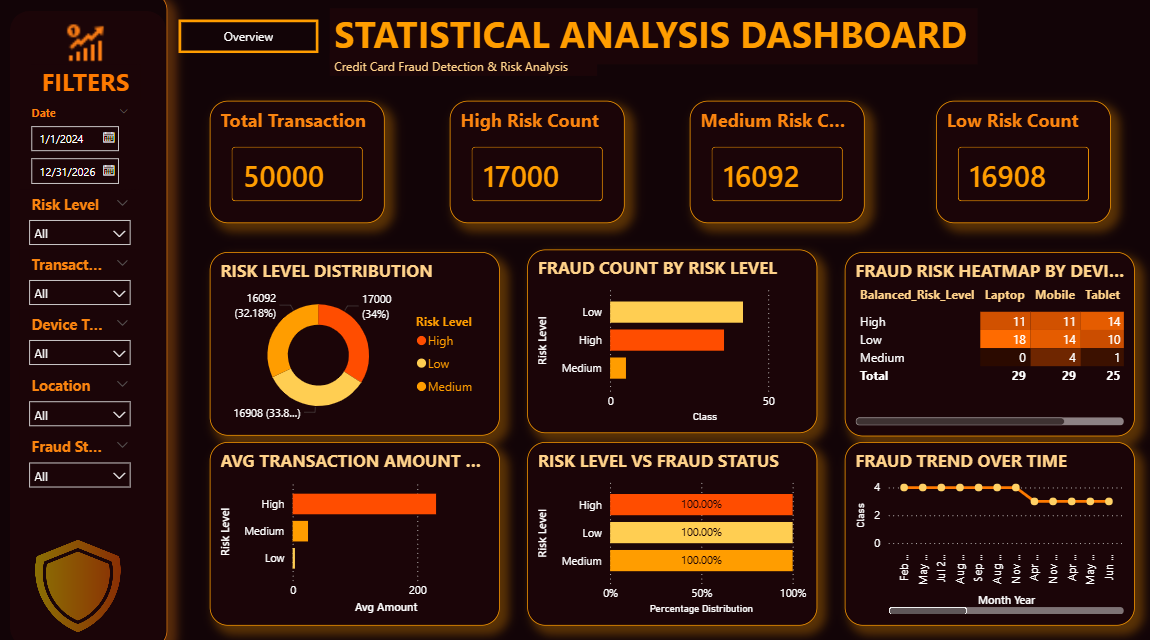

What the dashboard file says about the page in this screenshot:
{"tool":"powerbi","page":{"name":"Page 5","canvas":[1280,720],"ordinal":4},"visuals":[{"type":"shape","box":[0,0,193.5,720.4],"z":0},{"type":"textbox","title":"STATISTICAL ANALYSIS DASHBOARD","box":[371.9,17.8,710.8,61.7],"z":1000},{"type":"textbox","box":[371.9,67.2,293.7,24.7],"z":2000},{"type":"cardVisual","title":"Total Transaction","fields":{"Data":["enriched_data.Total Transactions"]},"box":[240.1,119.4,192.1,134.5],"z":3000},{"type":"cardVisual","title":"High Risk Count","fields":{"Data":["enriched_data.High_Risk_Count"]},"box":[503.6,119.4,192.1,134.5],"z":4000},{"type":"cardVisual","title":"Medium Risk Count","fields":{"Data":["enriched_data.Medium_Risk_Count"]},"box":[767.1,119.4,192.1,134.5],"z":5000},{"type":"cardVisual","title":"Low Risk Count","fields":{"Data":["enriched_data.Low_Risk_Count"]},"box":[1037.4,119.4,192.1,134.5],"z":6000},{"type":"slicer","fields":{"Values":["enriched_data.transaction_date"]},"box":[31.6,119.4,131.7,97.4],"z":7000},{"type":"slicer","fields":{"Values":["enriched_data.Balanced_Risk_Level"]},"box":[31.6,216.8,131.7,76.8],"z":8000},{"type":"slicer","fields":{"Values":["enriched_data.transaction_type"]},"box":[31.6,282.7,131.7,76.8],"z":9000},{"type":"slicer","fields":{"Values":["enriched_data.device_type"]},"box":[31.6,348.5,131.7,76.8],"z":10000},{"type":"slicer","fields":{"Values":["enriched_data.location"]},"box":[31.6,415.8,131.7,76.8],"z":11000},{"type":"slicer","fields":{"Values":["enriched_data.Fraud_Status"]},"box":[31.6,483,131.7,76.8],"z":12000},{"type":"donutChart","title":"RISK LEVEL DISTRIBUTION","fields":{"Category":["enriched_data.Balanced_Risk_Level"],"Y":["CountNonNull(enriched_data.transaction_id)"]},"box":[240.1,285.4,318.4,201.7],"z":13000},{"type":"clusteredBarChart","title":"FRAUD COUNT BY RISK LEVEL","fields":{"Category":["enriched_data.Balanced_Risk_Level"],"Y":["Sum(enriched_data.class)"]},"box":[588.5,282.5,318.3,201.2],"z":14000},{"type":"pivotTable","title":"FRAUD RISK HEATMAP BY DEVICE TYPE","fields":{"Columns":["enriched_data.device_type"],"Rows":["enriched_data.Balanced_Risk_Level"],"Values":["enriched_data.Total Fraud Transactions"]},"box":[937.1,285.3,318.3,202.6],"z":15000},{"type":"clusteredBarChart","title":"AVG TRANSACTION AMOUNT BY RISK LEVEL","fields":{"Y":["Avg(enriched_data.amount)"],"Category":["enriched_data.Balanced_Risk_Level"]},"box":[239.8,493.4,318.3,201.2],"z":16000},{"type":"hundredPercentStackedBarChart","title":"RISK LEVEL VS FRAUD STATUS","fields":{"Category":["enriched_data.Balanced_Risk_Level"],"Y":["CountNonNull(enriched_data.transaction_id)"]},"box":[588.5,493.4,318.3,201.2],"z":17000},{"type":"lineChart","title":"FRAUD TREND OVER TIME","fields":{"Category":["enriched_data.Month_Year"],"Y":["Sum(enriched_data.class)"]},"box":[937.1,493.4,318.3,201.2],"z":18000},{"type":"textbox","title":"FILTERS","box":[44.1,79.9,119.9,40],"z":19000},{"type":"image","box":[74.4,31.7,59.3,48.2],"z":20000},{"type":"image","box":[40,594,111.6,115.8],"z":21000},{"type":"actionButton","title":"Overview ","box":[205.8,30.2,153.7,37],"z":22000}]}

Visuals, with their boxes in screenshot pixels (x1, y1, x2, y2), scaled from the page's 1280x720 canvas onto the 1150x640 screenshot:
shape: bbox=[0, 0, 174, 639]
"STATISTICAL ANALYSIS DASHBOARD" textbox: bbox=[334, 16, 973, 71]
textbox: bbox=[334, 60, 598, 82]
"Total Transaction" cardVisual: bbox=[216, 106, 388, 226]
"High Risk Count" cardVisual: bbox=[452, 106, 625, 226]
"Medium Risk Count" cardVisual: bbox=[689, 106, 862, 226]
"Low Risk Count" cardVisual: bbox=[932, 106, 1105, 226]
slicer - enriched_data.transaction_date: bbox=[28, 106, 147, 193]
slicer - enriched_data.Balanced_Risk_Level: bbox=[28, 193, 147, 261]
slicer - enriched_data.transaction_type: bbox=[28, 251, 147, 320]
slicer - enriched_data.device_type: bbox=[28, 310, 147, 378]
slicer - enriched_data.location: bbox=[28, 370, 147, 438]
slicer - enriched_data.Fraud_Status: bbox=[28, 429, 147, 498]
"RISK LEVEL DISTRIBUTION" donutChart: bbox=[216, 254, 502, 433]
"FRAUD COUNT BY RISK LEVEL" clusteredBarChart: bbox=[529, 251, 815, 430]
"FRAUD RISK HEATMAP BY DEVICE TYPE" pivotTable: bbox=[842, 254, 1128, 434]
"AVG TRANSACTION AMOUNT BY RISK LEVEL" clusteredBarChart: bbox=[215, 439, 501, 617]
"RISK LEVEL VS FRAUD STATUS" hundredPercentStackedBarChart: bbox=[529, 439, 815, 617]
"FRAUD TREND OVER TIME" lineChart: bbox=[842, 439, 1128, 617]
"FILTERS" textbox: bbox=[40, 71, 147, 107]
image: bbox=[67, 28, 120, 71]
image: bbox=[36, 528, 136, 631]
"Overview " actionButton: bbox=[185, 27, 323, 60]
